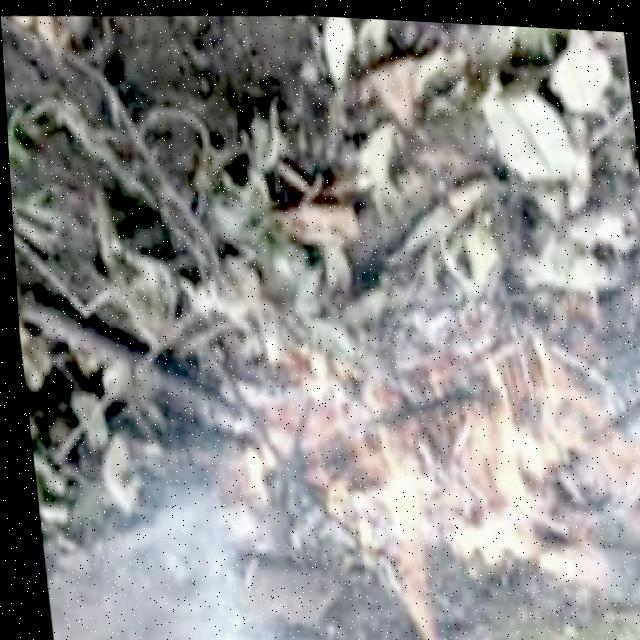Fire: (238, 342, 640, 638)
